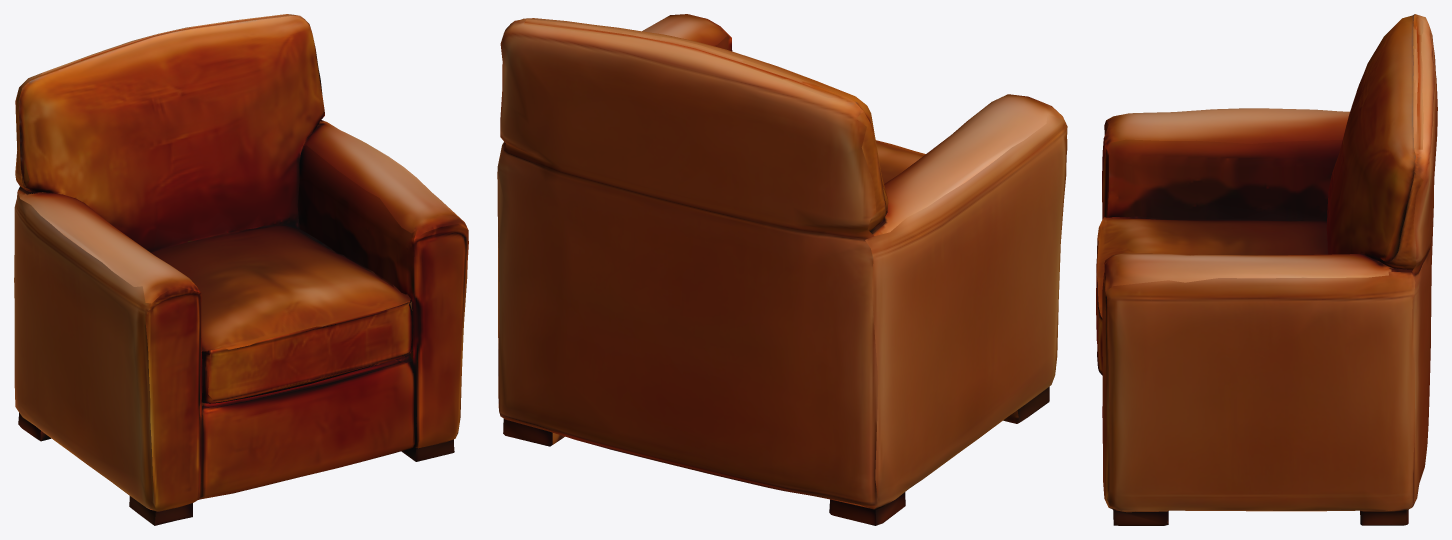
The model's file is Fauteuil3_3D_textured.glb.
3 renders of one model, left to right at view 1: azimuth 30°, elevation 25°; view 2: azimuth 150°, elevation 25°; view 3: azimuth 270°, elevation 25°, orthographic. The views are drawn at different scales.
Visible parts, largest first — view 1: temp_mesh.ply; view 2: temp_mesh.ply; view 3: temp_mesh.ply.
Boxes of the visible parts, bbox=[...] form: temp_mesh.ply: bbox=[14, 14, 468, 525]; temp_mesh.ply: bbox=[497, 14, 1067, 525]; temp_mesh.ply: bbox=[1096, 14, 1437, 525].
Bounding box in the file's own units: 1.95 × 1.97 × 1.61.
Materials: 1 (1 with a texture image).
